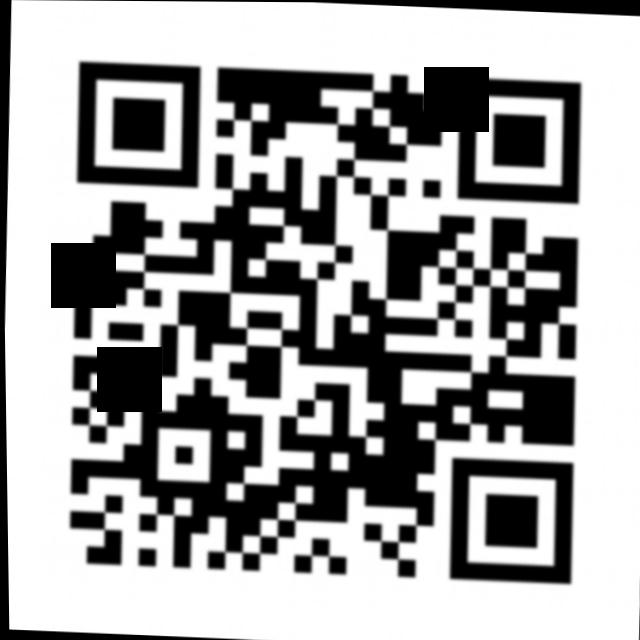QR_CODE: (37, 45, 603, 599)
